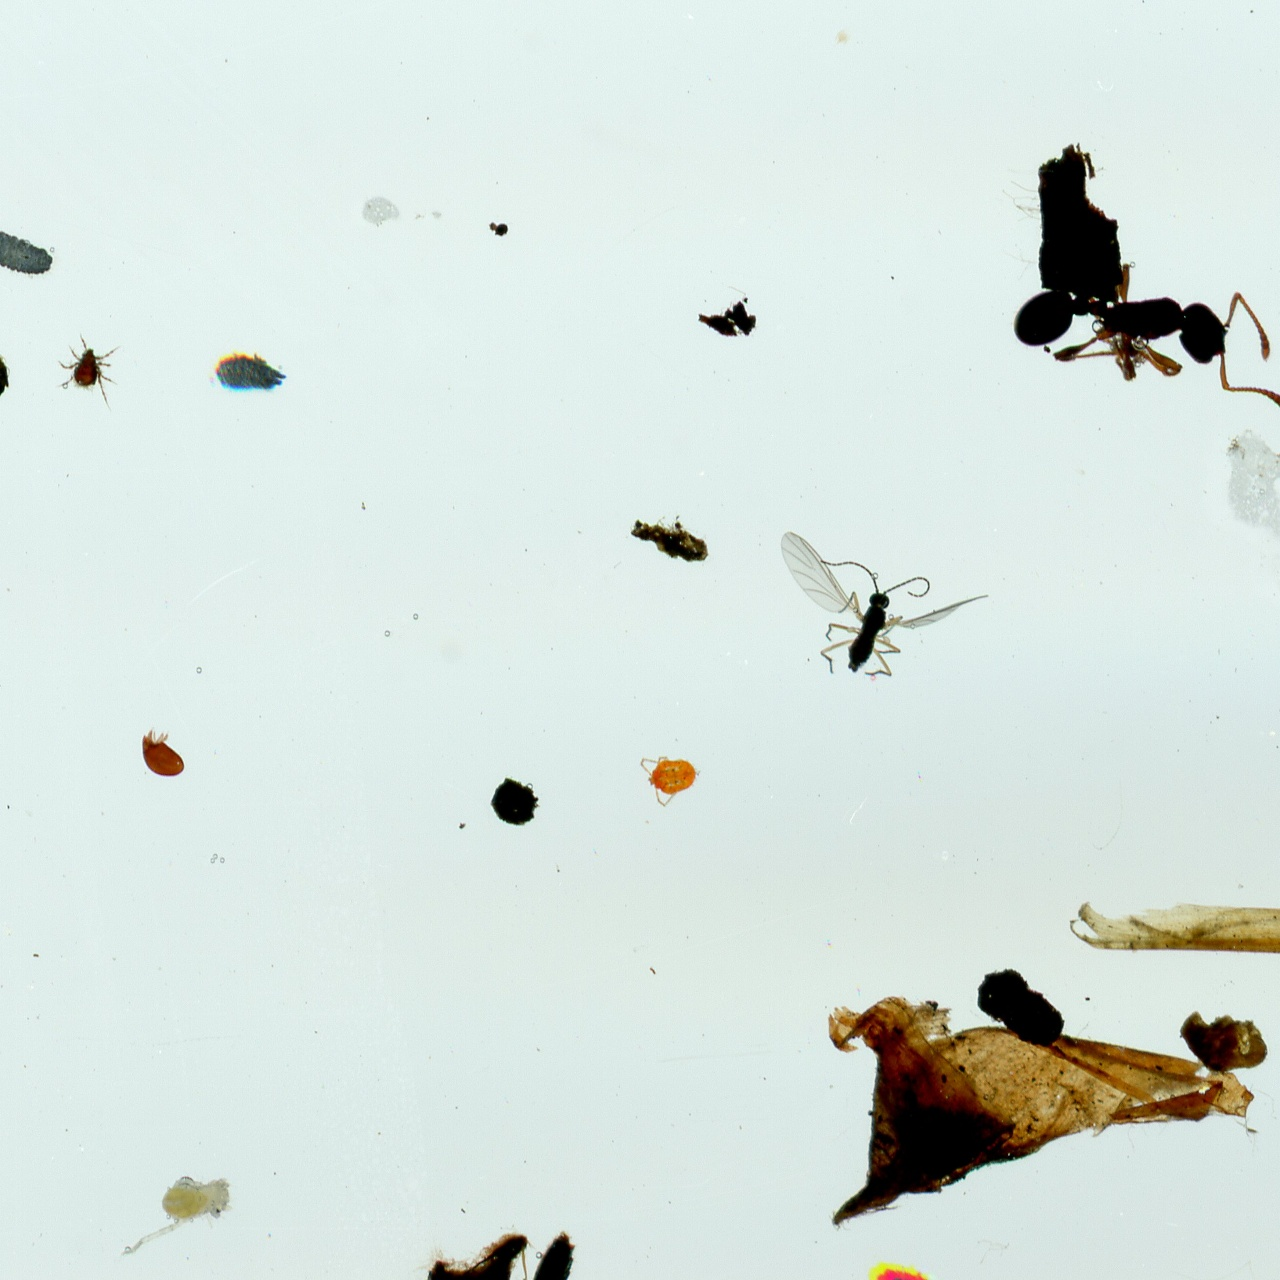arthropod: (1006, 256, 1280, 418), (777, 526, 994, 685), (449, 1206, 614, 1280), (0, 211, 66, 298), (53, 332, 123, 403), (635, 753, 706, 810), (131, 726, 195, 785), (212, 349, 291, 397), (858, 1257, 959, 1280)
